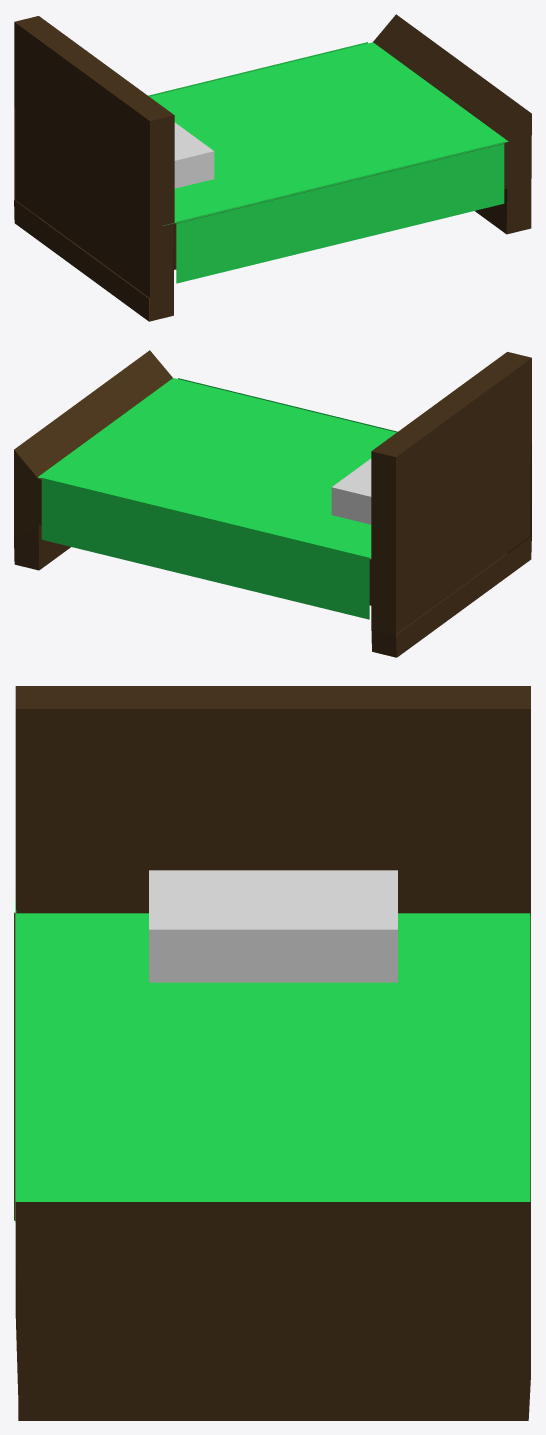
File: bed.glb
3 renders of one model, top to bottom at view 1: azimuth 30°, elevation 25°; view 2: azimuth 150°, elevation 25°; view 3: azimuth 270°, elevation 25°, orthographic. The views are drawn at different scales.
Parts seen in each view (by area): view 1: Cube, Plane, Plane.003, Cube.001, Plane.002; view 2: Cube, Plane, Plane.002, Cube.001, Plane.003; view 3: Cube, Plane, Cube.001.
Part boxes in pixels (x1,y1,x2,y2): Cube: (14,14,531,321); Plane: (149,42,508,225); Plane.003: (176,142,504,283); Cube.001: (174,122,214,188); Plane.002: (148,42,367,96); Cube: (14,350,531,657); Plane: (38,378,396,558); Plane.002: (41,478,369,619); Cube.001: (331,458,371,524); Plane.003: (178,378,397,432); Cube: (14,686,530,1420); Plane: (15,901,530,1222); Cube.001: (149,870,397,982).
Bounding box in the file's own units: 3.05 × 1.53 × 1.89.
